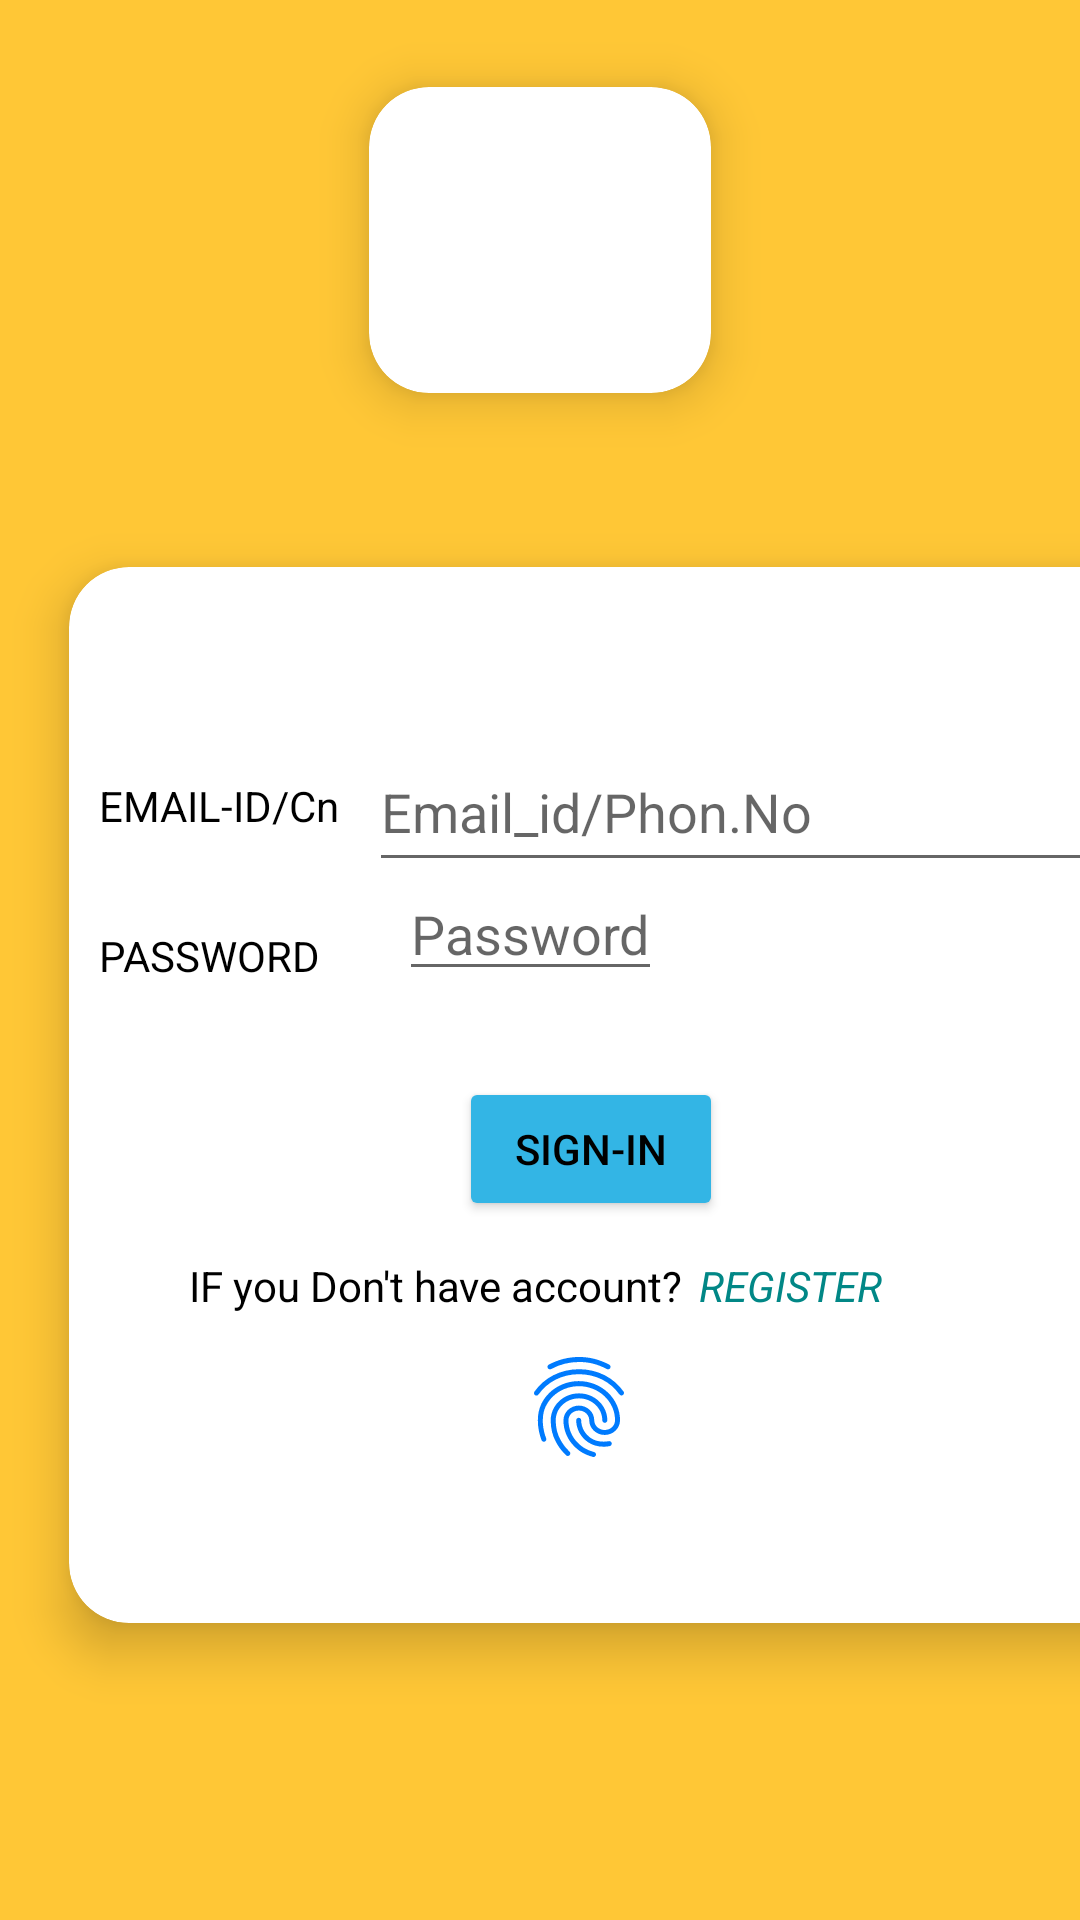

Point at icon controls on the screen. Image size 1080 x 1920, points as (x=x, y=y).
fingerprint: (x=579, y=1407)
